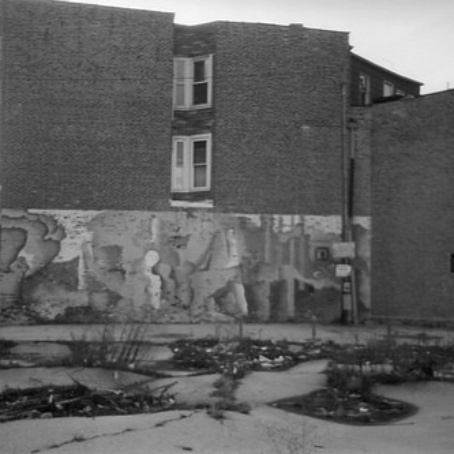building: (1, 1, 443, 317)
